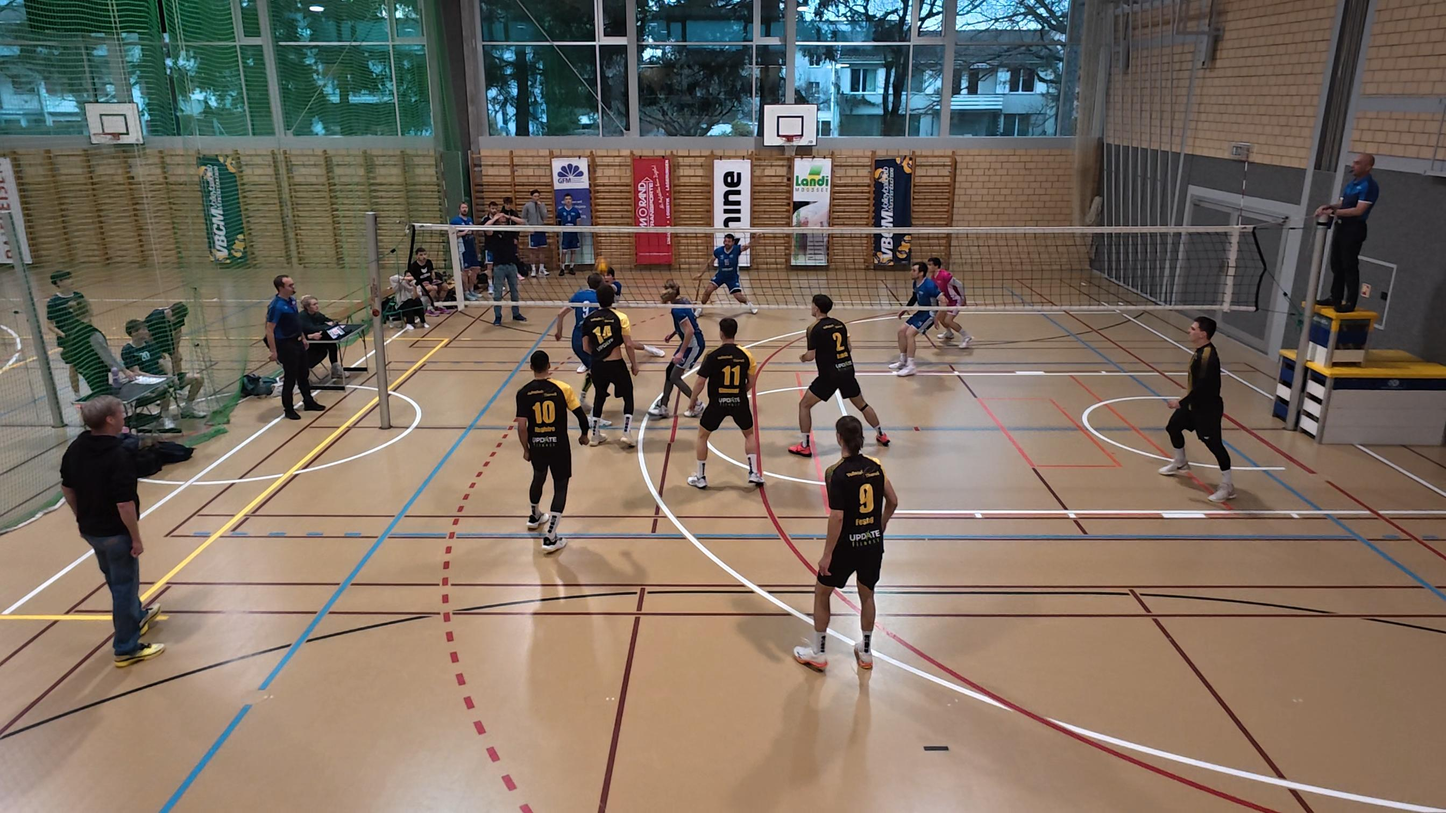Player: (792, 418, 898, 672), (788, 293, 889, 457), (1159, 316, 1236, 503), (512, 350, 583, 552), (686, 318, 763, 488), (578, 291, 644, 448), (647, 280, 705, 419), (889, 259, 944, 376), (697, 230, 759, 316), (926, 257, 973, 352)
ball: (596, 259, 615, 277)
